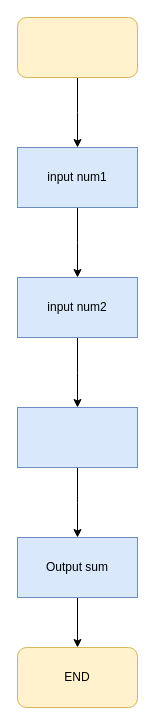
This 155x725 diagram has some shape labels left out. Here are the shapes that lost their labels. From the top down, the box of each, then its label:
(16, 16, 138, 78): START
(16, 406, 138, 468): Store answer as sum=(num1*num1) +(num2*num2)
